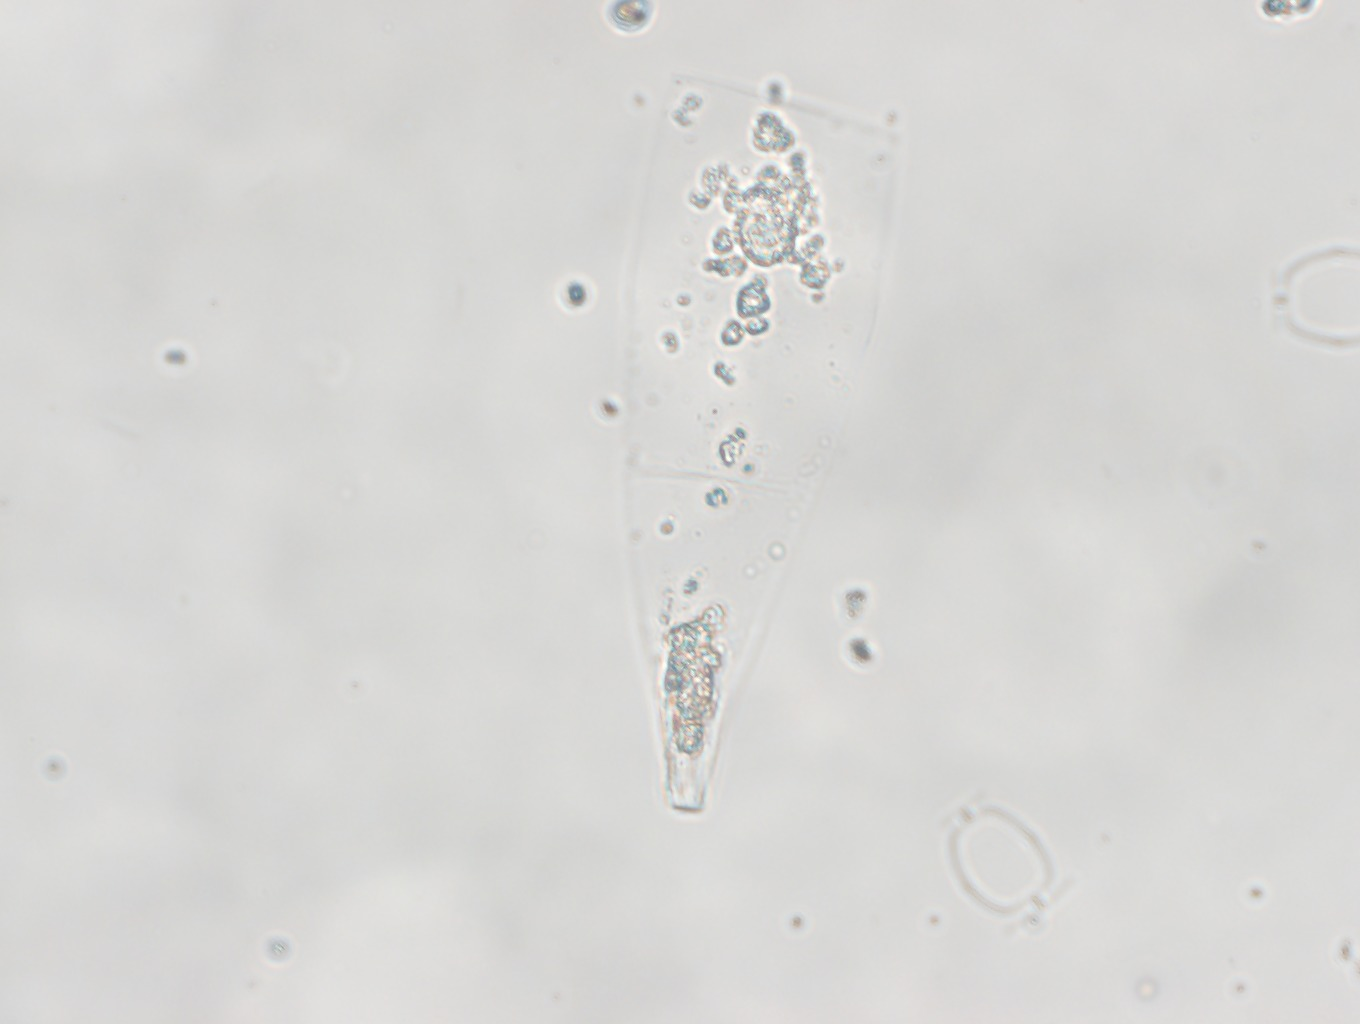helicotheca: (595, 70, 917, 820)
